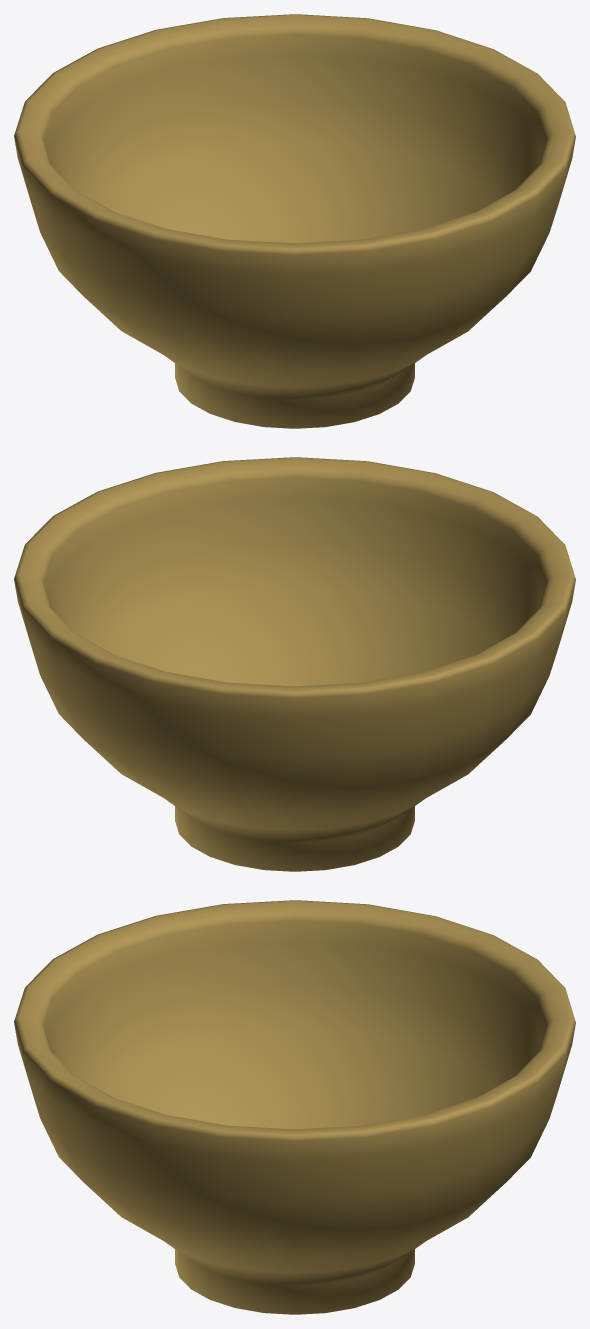
Rendered from Bol.fbx.
3 renders of one model, top to bottom at view 1: azimuth 30°, elevation 25°; view 2: azimuth 150°, elevation 25°; view 3: azimuth 270°, elevation 25°, orthographic.
Visible parts, largest first — view 1: Cylinder; view 2: Cylinder; view 3: Cylinder.
Boxes of the visible parts, x1,y1,x2,y2 form: Cylinder: (14,14,575,428); Cylinder: (14,457,575,871); Cylinder: (14,900,575,1314).
Bounding box in the file's own units: 523 × 254 × 523.
